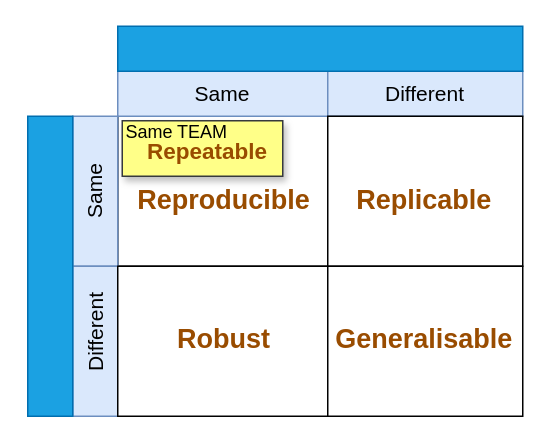
Image size: 549x443. Some labels were removed from this diagram. The centre of each missing label's shape, as x and y in pixels:
"CODE & Analysys" goes at pixel 49 265.
"DATA" goes at pixel 319 48.
